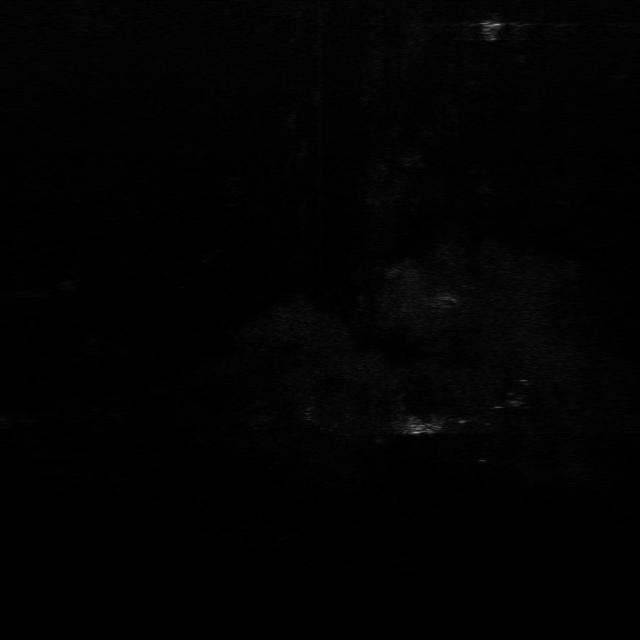rov: (478, 18, 511, 46)
